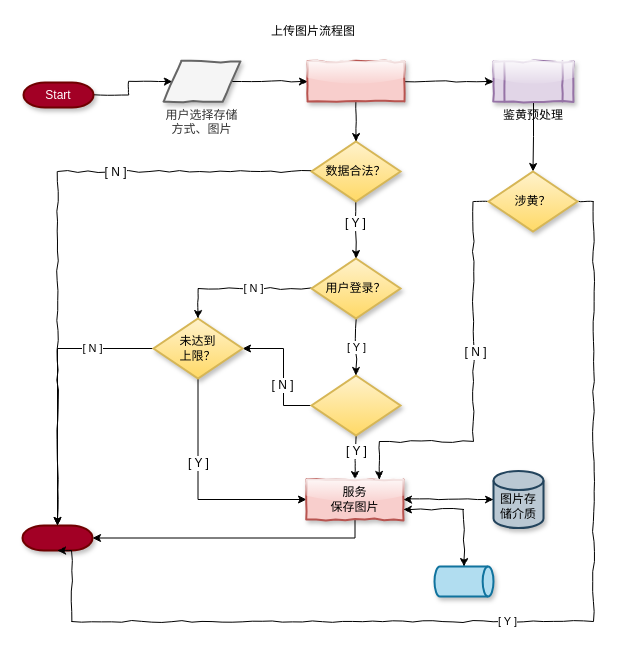
The diagram is 619 pixels wide and 647 high, and some of its shapes have lost their labels. Each missing label, with the centre of its shape:
"End" belongs at (58,539).
"是否是 会员？" belongs at (356,406).
"服务 接收数据" belongs at (356,82).
"记录" belongs at (464,582).
